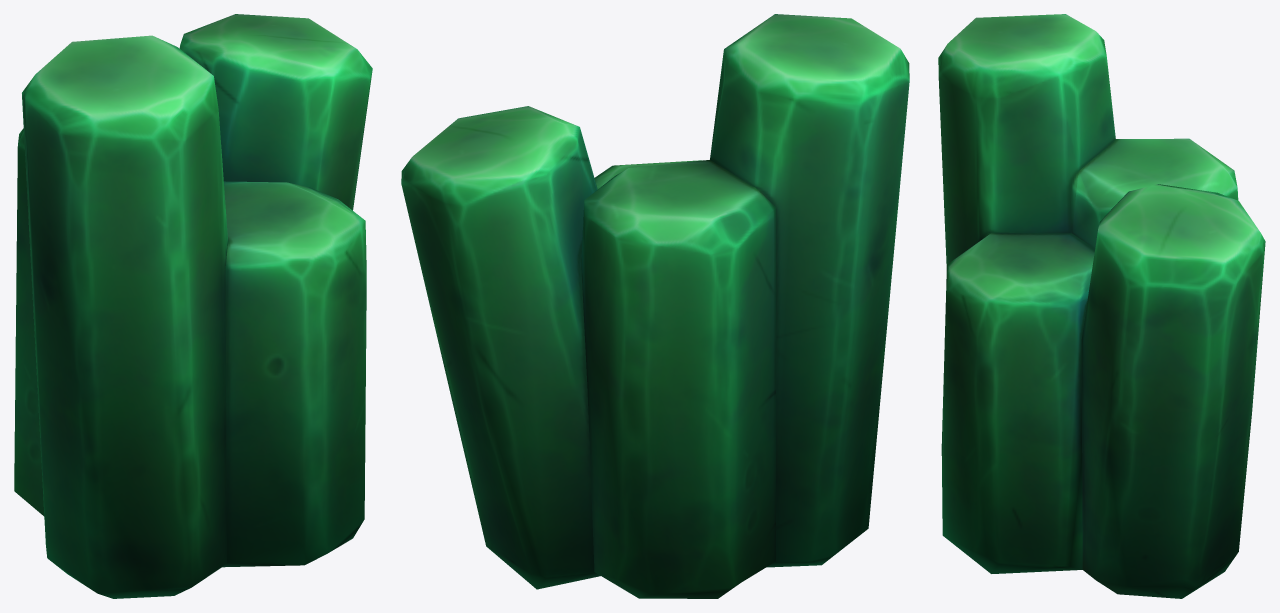
Rendered from SM_Gem_Emerald_004.fbx.
3 views of the same model, side by side, from view 1: azimuth 30°, elevation 25°; view 2: azimuth 150°, elevation 25°; view 3: azimuth 270°, elevation 25° (orthographic). The views are drawn at different scales.
Parts seen in each view (by area): view 1: SM_Gem_Emerald_004; view 2: SM_Gem_Emerald_004; view 3: SM_Gem_Emerald_004.
Part boxes in pixels (x1,y1,x2,y2): SM_Gem_Emerald_004: (14,14,372,598); SM_Gem_Emerald_004: (401,14,909,598); SM_Gem_Emerald_004: (938,14,1265,598).
Bounding box in the file's own units: 38.87 × 48.62 × 31.
